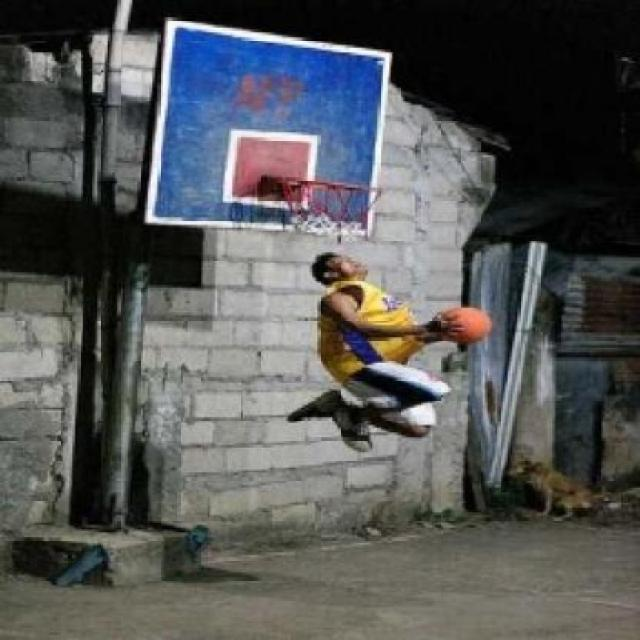basketball: (437, 300, 497, 352)
